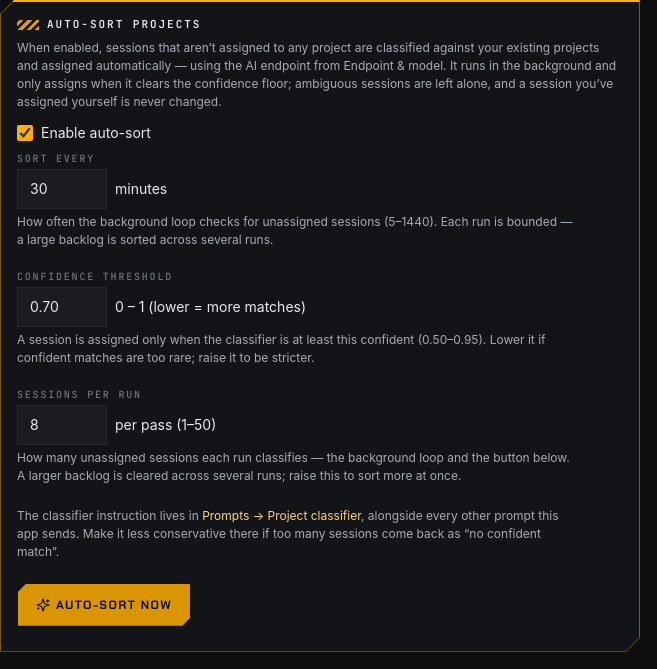
it: the interval commits on blur within bounds; out-of-range reverts (#424)
The image size is (657, 669).
Replace the text in the number field labelled "Sort every" with "60" at (62, 189), box [17,169,107,209]
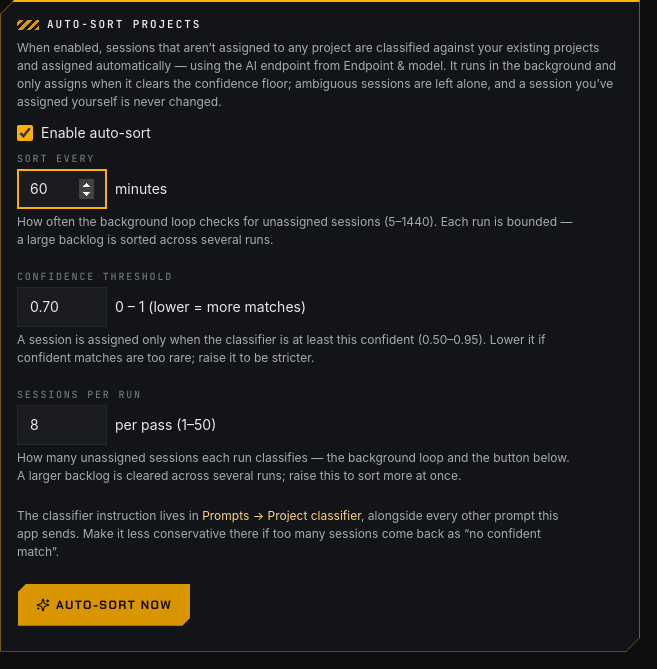
Press Tab
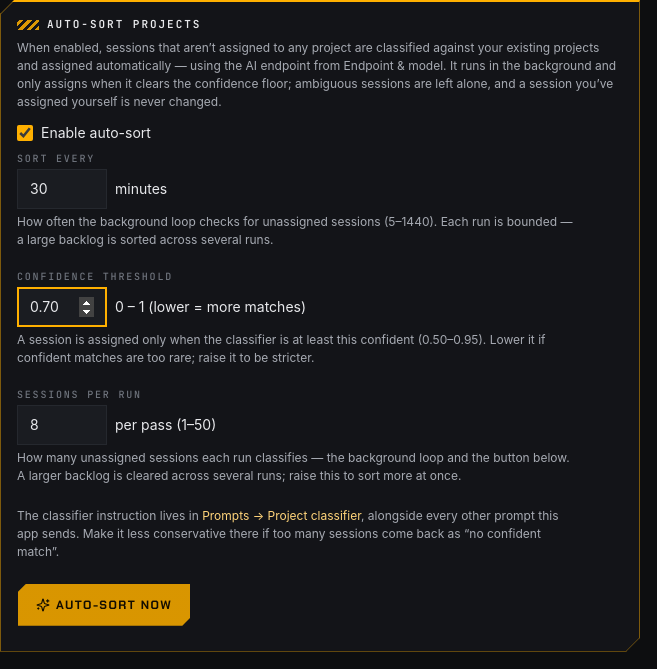
Replace the text in the number field labelled "Sort every" with "2" at (62, 189), box [17,169,107,209]
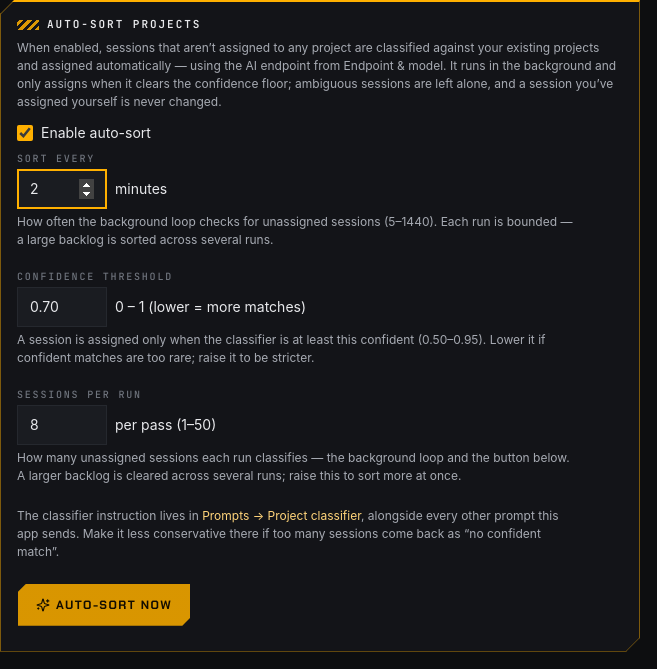
Press Tab
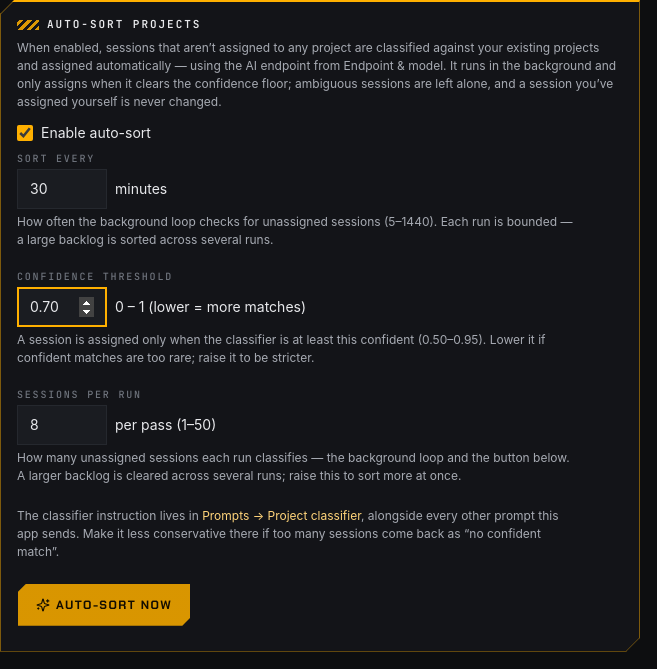
Expected: the number field labelled "Sort every" holds "30", [17,169,107,209]
